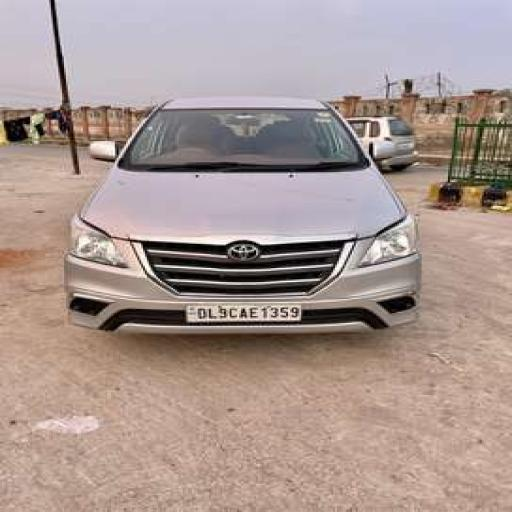license_plate`: (183, 302, 301, 320)
